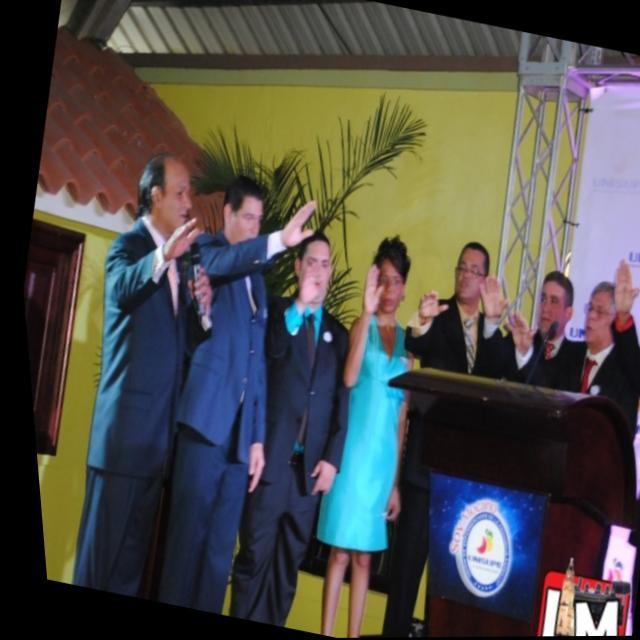Nonhelmet: (129, 144, 198, 246), (286, 222, 342, 306), (216, 170, 269, 252), (369, 232, 411, 321), (447, 235, 491, 308), (530, 267, 574, 336)
